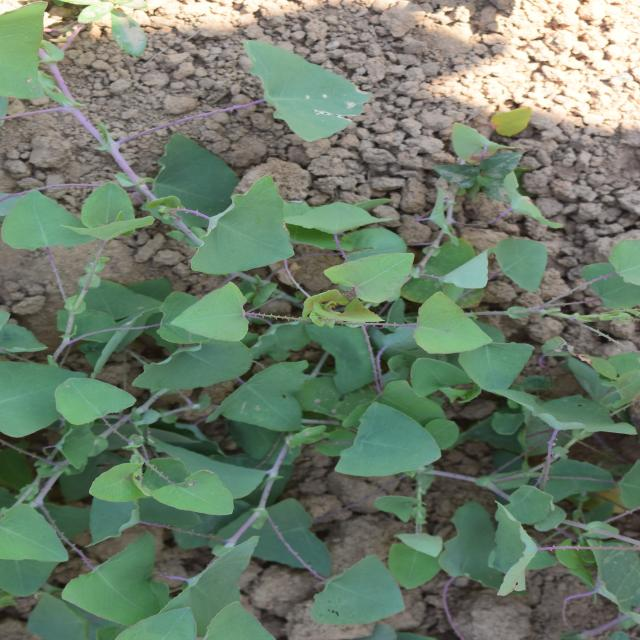Asiatic_Smartweed: (258, 249, 440, 499), (0, 66, 129, 398), (237, 118, 468, 296), (153, 306, 285, 589), (494, 226, 606, 372)
